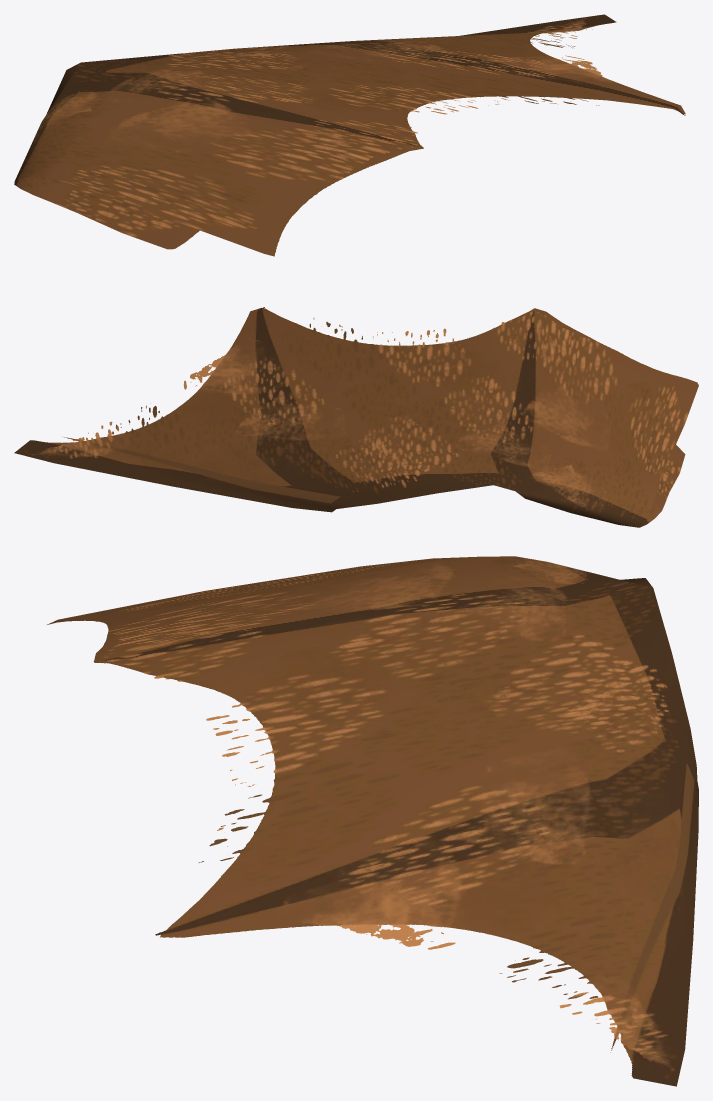
The model's file is BatWing.fbx.
3 renders of one model, top to bottom at view 1: azimuth 30°, elevation 25°; view 2: azimuth 150°, elevation 25°; view 3: azimuth 270°, elevation 25°, orthographic. The views are drawn at different scales.
Visible parts, largest first — view 1: Feather; view 2: Feather; view 3: Feather.
Boxes of the visible parts, <box> form: Feather: <box>14,14,685,256</box>; Feather: <box>14,307,698,527</box>; Feather: <box>47,556,698,1086</box>.
Size of the model in its own units: 1.42 by 0.2256 by 0.8999.
